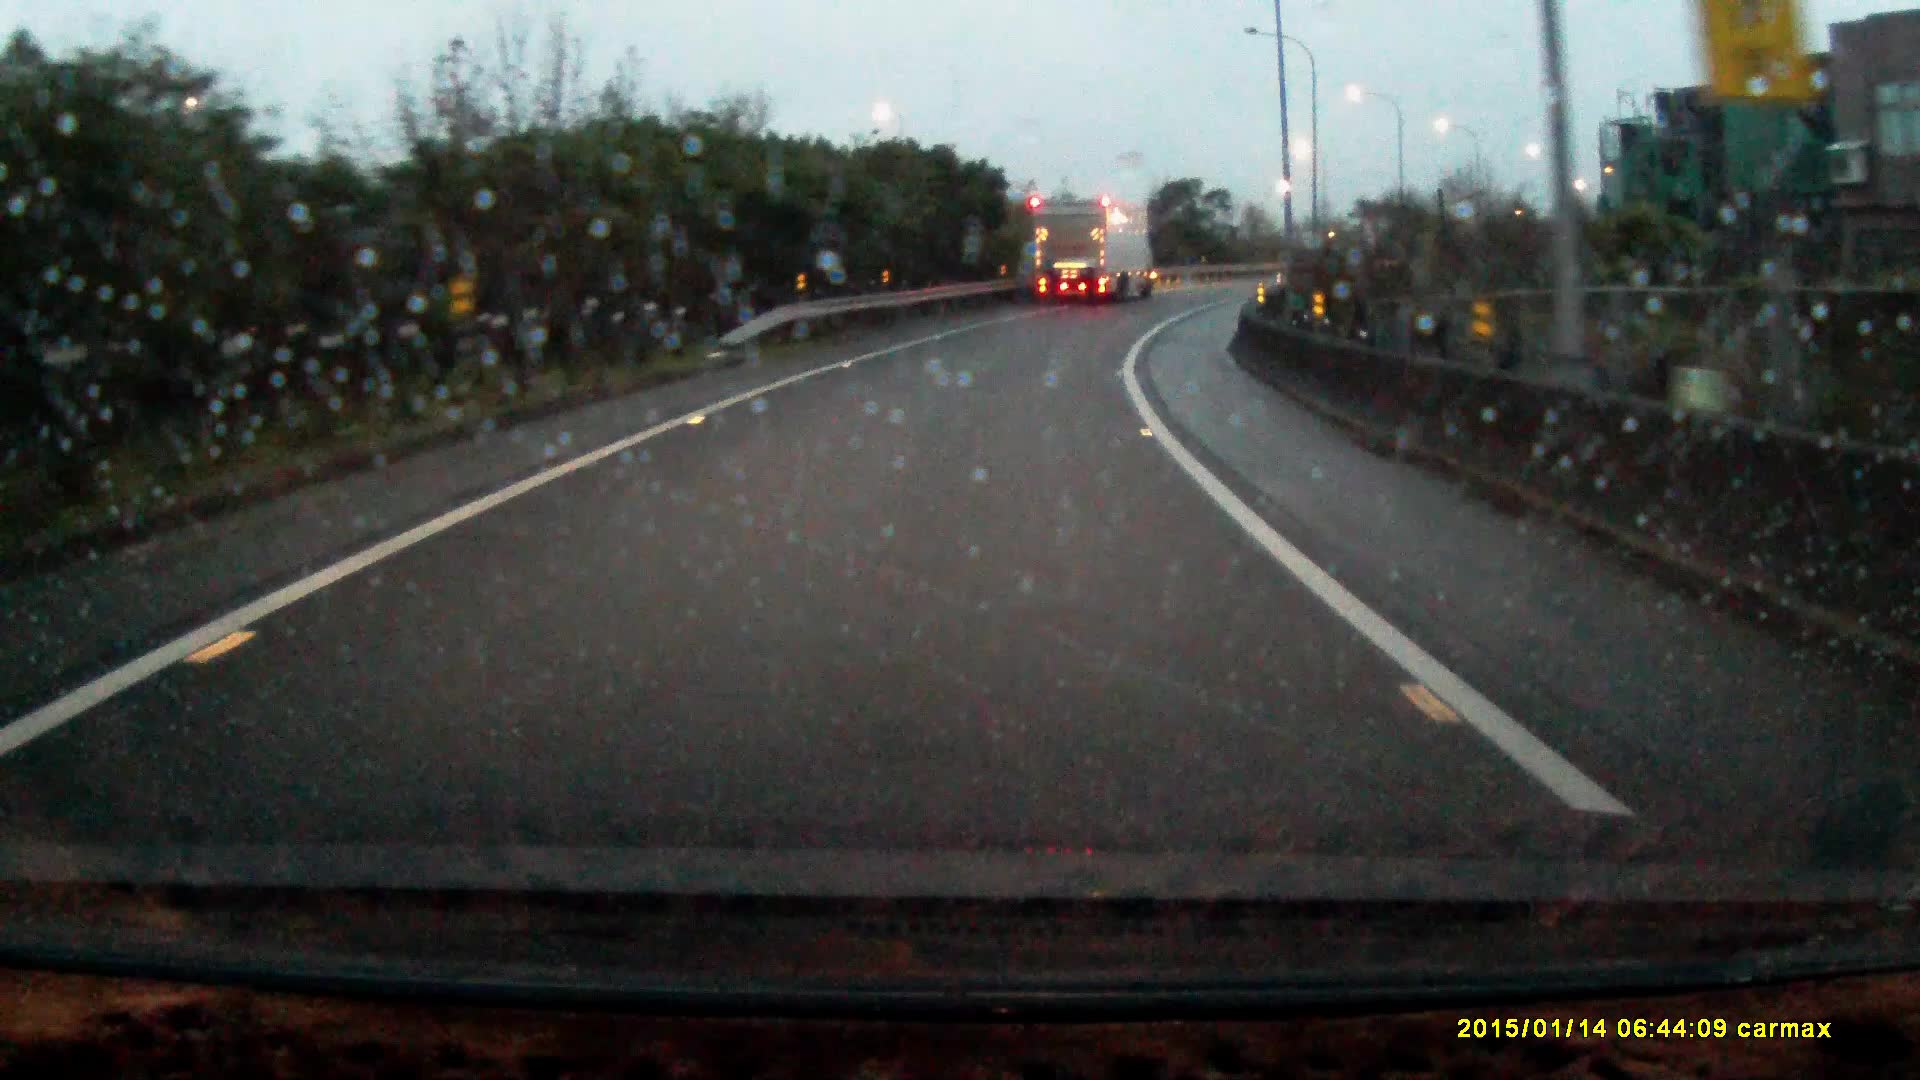vehicle: (1036, 194, 1164, 302)
